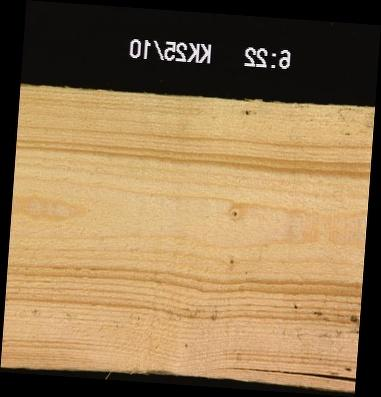small_knot: (227, 203, 241, 221), (241, 104, 252, 119), (226, 254, 237, 266)
split: (212, 363, 355, 379)
wave: (120, 362, 177, 375)
